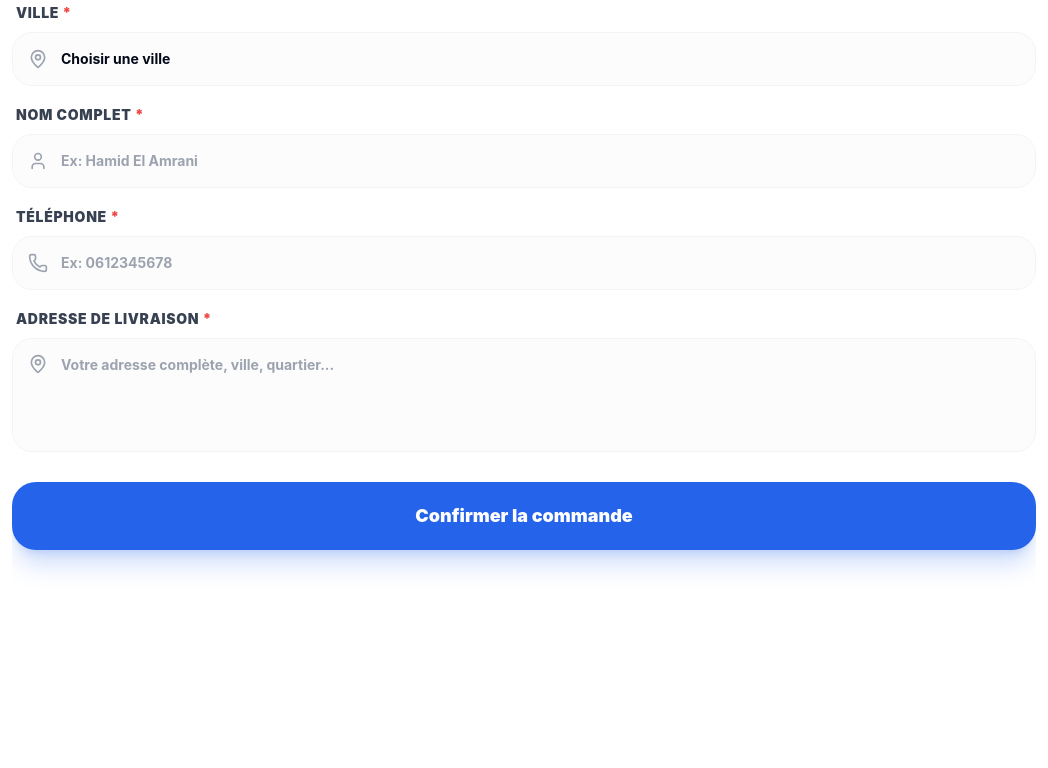
CheckoutForm › form validation › should validate phone number format
Type "123" into the field labelled "Téléphone *".
click(524, 263); type("123")  # box top-left (12, 236), bottom-right (1036, 290)
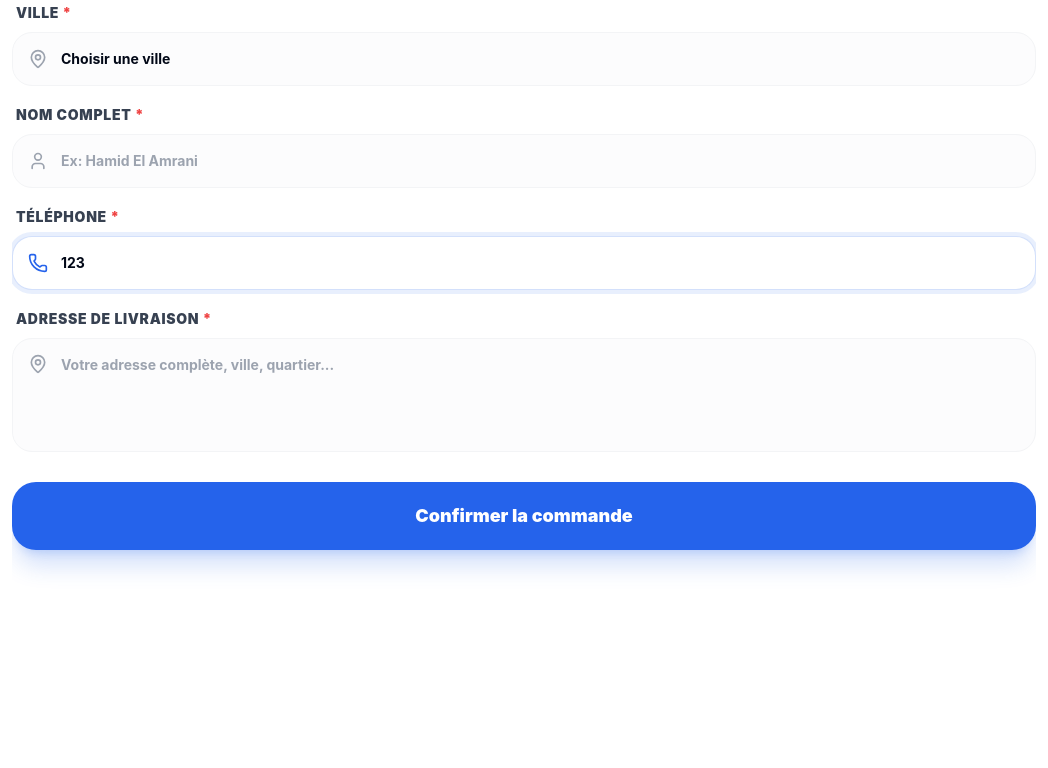
Click the button "Confirmer la commande".
click(524, 516)  # box top-left (12, 482), bottom-right (1036, 550)
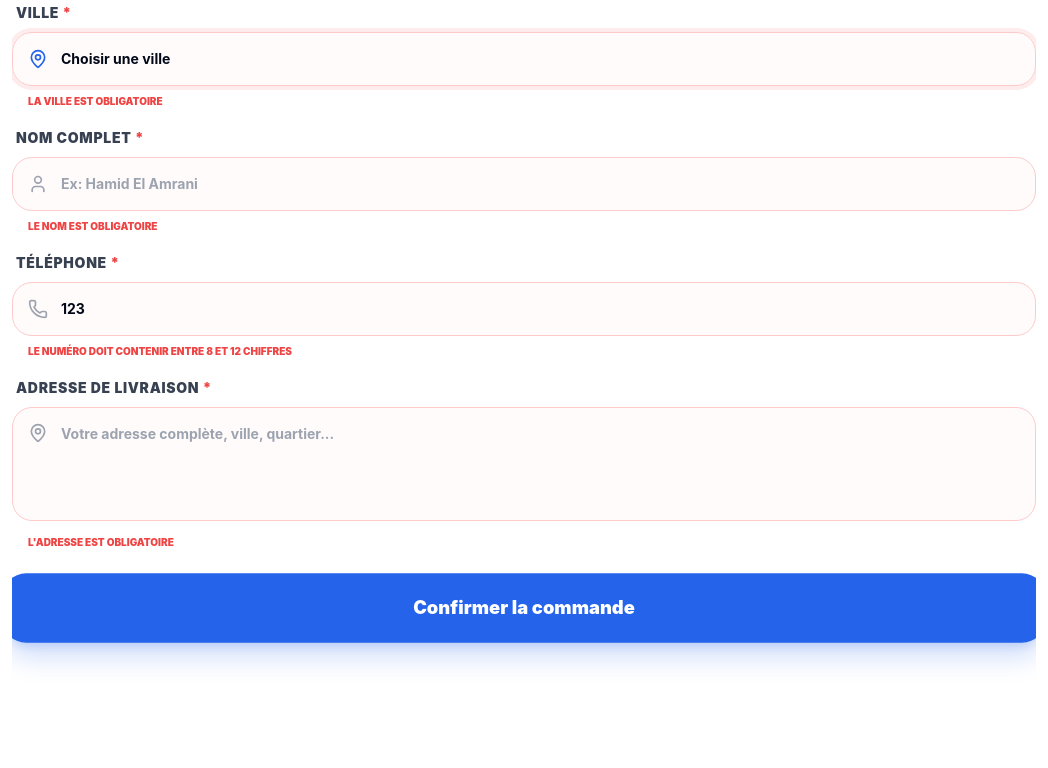
expect the text "Le numéro doit contenir entre 8 et 12 chiffres" is shown: met, box top-left (28, 345), bottom-right (292, 357)
